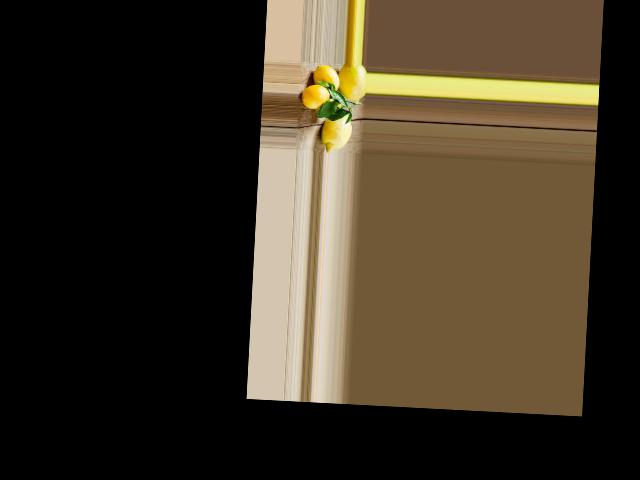lemon: (316, 105, 353, 153)
